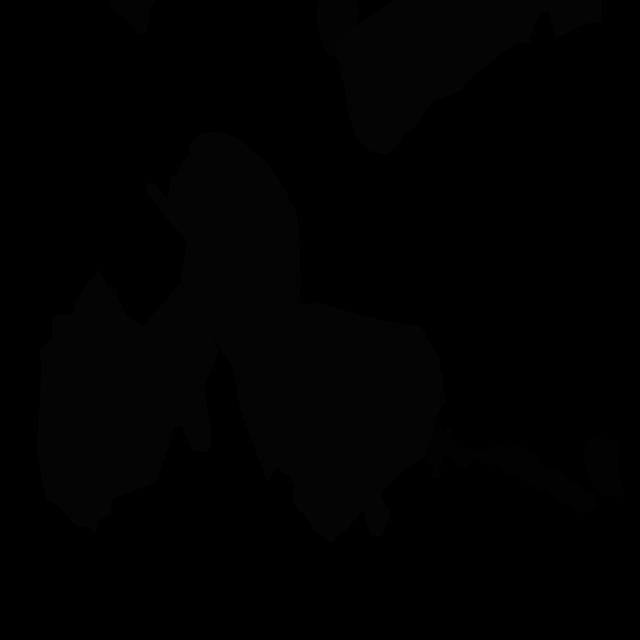cardboard: (424, 418, 598, 516), (583, 435, 624, 498)
metal: (316, 0, 359, 58), (110, 0, 156, 34)
soft_plastic: (146, 131, 446, 543), (38, 269, 219, 533), (334, 0, 602, 155)
